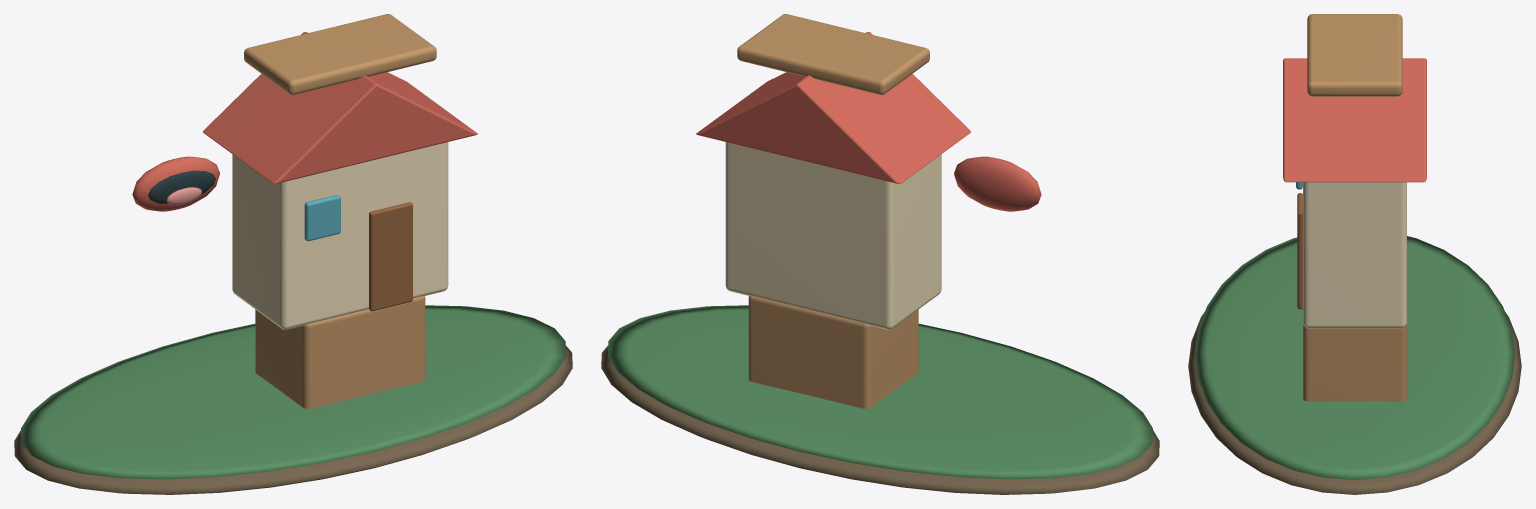
Rendered from high-tower.glb.
3 renders of one model, left to right at view 1: azimuth 30°, elevation 25°; view 2: azimuth 150°, elevation 25°; view 3: azimuth 270°, elevation 25°, orthographic.
Parts seen in each view (by area): view 1: high-tower_surface_01, high-tower_surface_06, high-tower_surface_02, high-tower_surface_03, high-tower_surface_00, high-tower_surface_07, high-tower_surface_08, high-tower_surface_04; view 2: high-tower_surface_01, high-tower_surface_06, high-tower_surface_02, high-tower_surface_03, high-tower_surface_00; view 3: high-tower_surface_01, high-tower_surface_02, high-tower_surface_06, high-tower_surface_03, high-tower_surface_00, high-tower_surface_07.
Boxes of the visible parts, left/top/right/bottom form: high-tower_surface_01: left=21, top=305, right=565, bottom=479; high-tower_surface_06: left=232, top=142, right=448, bottom=329; high-tower_surface_02: left=244, top=14, right=436, bottom=408; high-tower_surface_03: left=132, top=32, right=477, bottom=211; high-tower_surface_00: left=14, top=346, right=572, bottom=494; high-tower_surface_07: left=369, top=202, right=412, bottom=311; high-tower_surface_08: left=304, top=195, right=340, bottom=241; high-tower_surface_04: left=148, top=170, right=215, bottom=203; high-tower_surface_01: left=608, top=305, right=1152, bottom=479; high-tower_surface_06: left=725, top=142, right=941, bottom=329; high-tower_surface_02: left=737, top=14, right=929, bottom=408; high-tower_surface_03: left=696, top=32, right=1041, bottom=211; high-tower_surface_00: left=601, top=346, right=1159, bottom=494; high-tower_surface_01: left=1195, top=236, right=1514, bottom=479; high-tower_surface_02: left=1303, top=14, right=1406, bottom=401; high-tower_surface_06: left=1303, top=182, right=1406, bottom=328; high-tower_surface_03: left=1283, top=58, right=1426, bottom=182; high-tower_surface_00: left=1188, top=312, right=1521, bottom=494; high-tower_surface_07: left=1297, top=193, right=1302, bottom=309.
Size of the model in its own units: 4.56 by 2.95 by 2.5.
